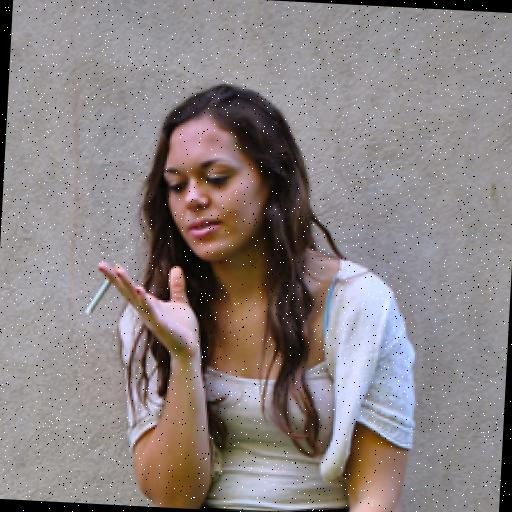terdeteksi pegang rokok: (56, 230, 154, 362)
